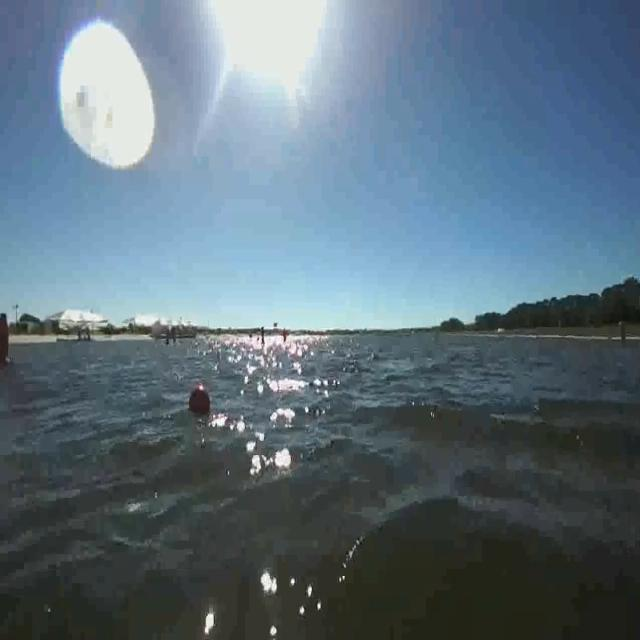red-buoy: (186, 382, 212, 420)
red-column-buoy: (0, 311, 13, 365)
